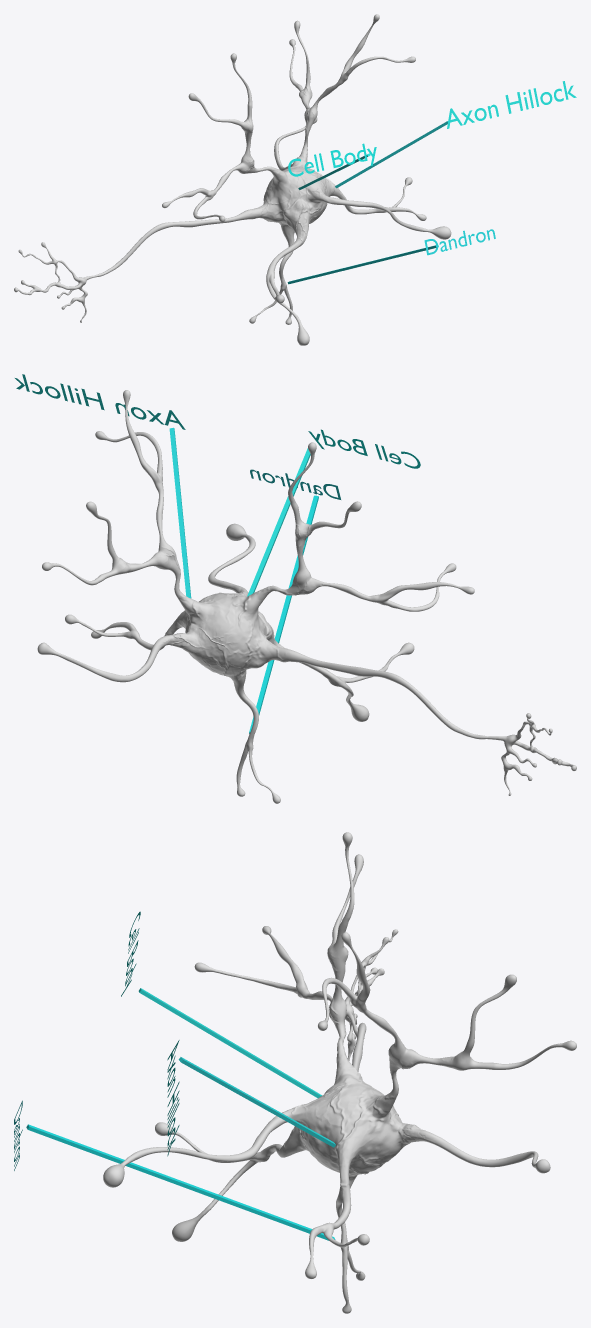
File: neuron.glb
3 views of the same model, one above another, from view 1: azimuth 30°, elevation 25°; view 2: azimuth 150°, elevation 25°; view 3: azimuth 270°, elevation 25° (orthographic). The views are drawn at different scales.
Parts seen in each view (by area): view 1: Neuron_smooth_normals, Text.001, Text, BezierCurve.002, Text.002, BezierCurve.001; view 2: Neuron_smooth_normals, Text.001, BezierCurve.002, BezierCurve.001, BezierCurve, Text; view 3: Neuron_smooth_normals, BezierCurve.002, BezierCurve, BezierCurve.001.
Part boxes in pixels (x1,y1,x2,y2): Neuron_smooth_normals: (14, 14, 451, 345); Text.001: (447, 81, 576, 128); Text: (288, 143, 376, 176); BezierCurve.002: (287, 245, 438, 284); Text.002: (424, 229, 495, 255); BezierCurve.001: (335, 121, 447, 188); Neuron_smooth_normals: (37, 390, 576, 803); Text.001: (15, 374, 185, 429); BezierCurve.002: (249, 495, 318, 734); BezierCurve.001: (169, 427, 191, 598); BezierCurve: (247, 448, 310, 596); Text: (308, 429, 420, 468); Neuron_smooth_normals: (103, 832, 576, 1313); BezierCurve.002: (26, 1124, 335, 1240); BezierCurve: (138, 988, 321, 1098); BezierCurve.001: (178, 1057, 335, 1147).
Size of the model in its own units: 8.47 by 4.72 by 5.39.
